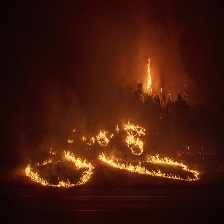fire: (88, 121, 214, 187), (21, 140, 96, 191), (140, 54, 161, 98)
smoke: (22, 12, 135, 127), (167, 17, 213, 106)
